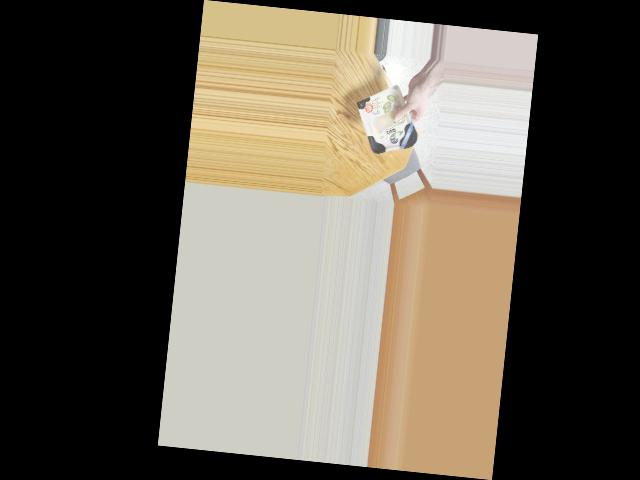cheese: (355, 88, 425, 158)
